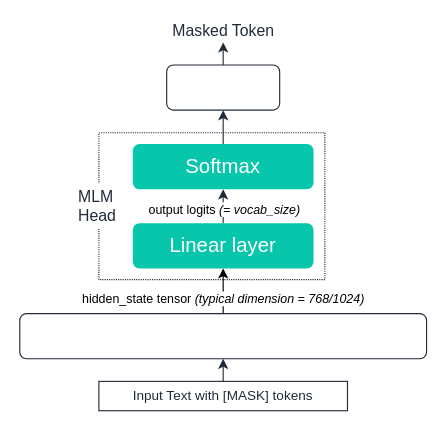
Some shapes in this 446 by 431 pixel diagram are drawn without their labels. Each missing label, with the centre of its shape:
"Argmax" belongs at point 223,87.
"Bert" belongs at point 223,335.
